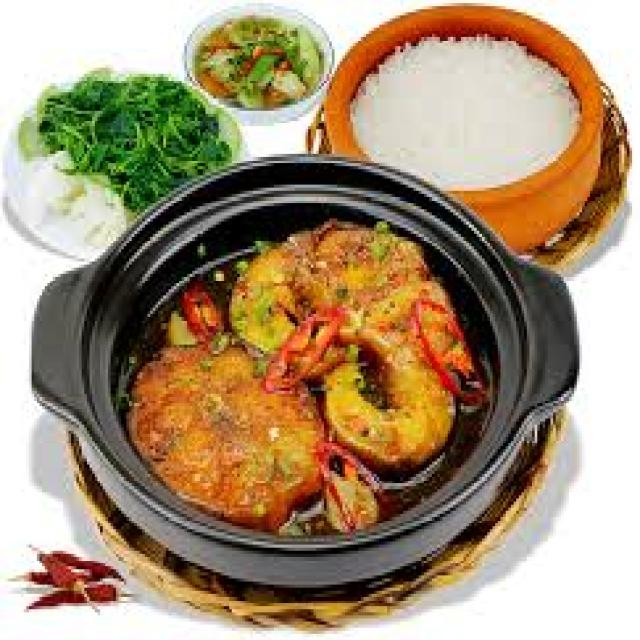ca_kho: (160, 252, 466, 494)
rau_muong_xao: (52, 85, 226, 191)
